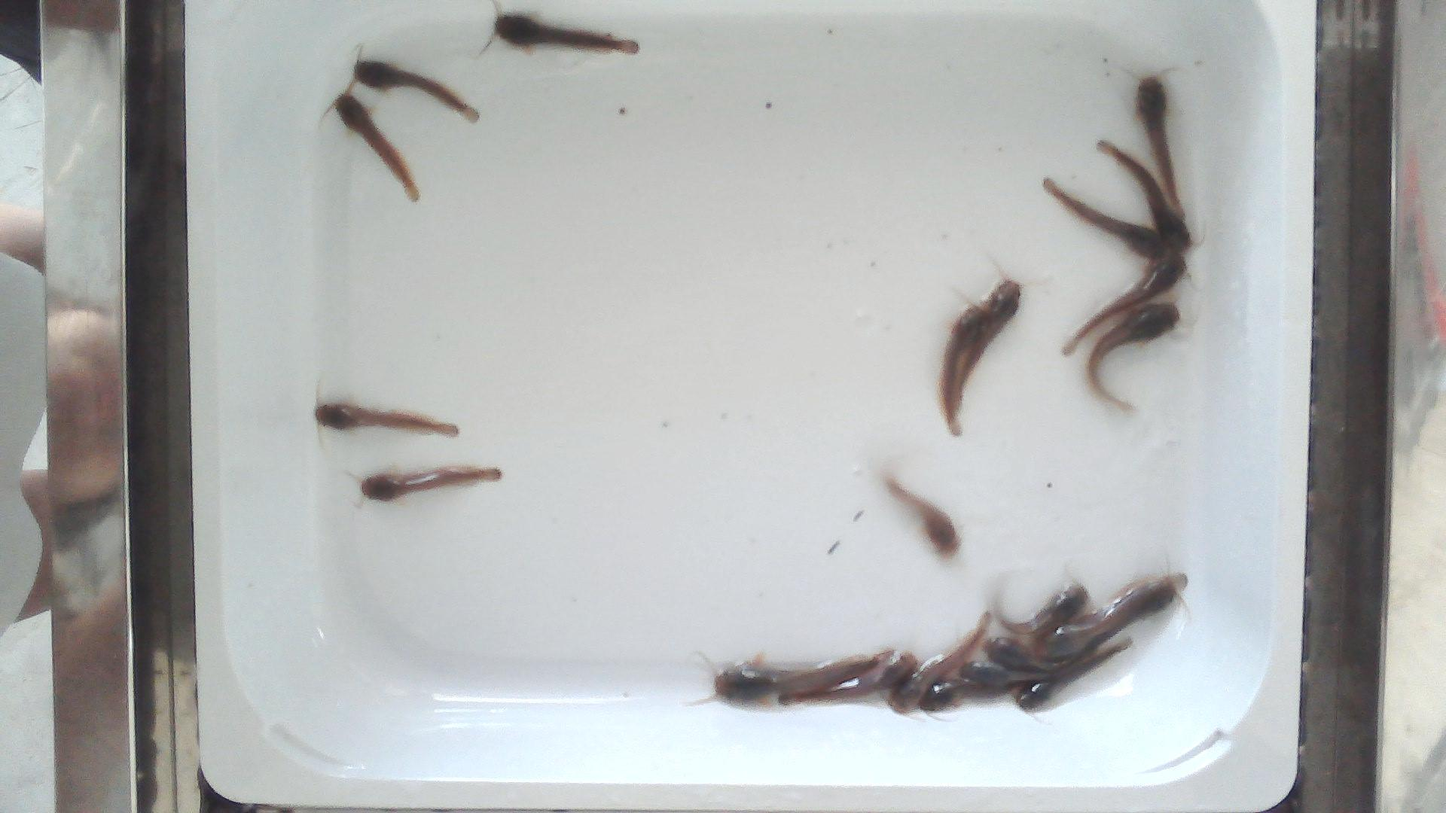lele: (1064, 252, 1188, 357), (1031, 577, 1163, 662), (1039, 178, 1169, 261), (743, 647, 915, 706), (1088, 306, 1179, 416), (1100, 143, 1192, 251), (894, 612, 987, 714), (336, 91, 419, 201), (714, 652, 874, 706), (1016, 638, 1133, 711), (959, 280, 1020, 412), (1135, 73, 1190, 219), (355, 59, 477, 121), (884, 474, 959, 558), (1085, 578, 1176, 647), (938, 304, 983, 439), (494, 14, 637, 52), (989, 584, 1088, 635), (361, 466, 502, 501), (315, 403, 458, 436), (986, 637, 1100, 668), (918, 679, 1002, 713), (960, 658, 1064, 684)
